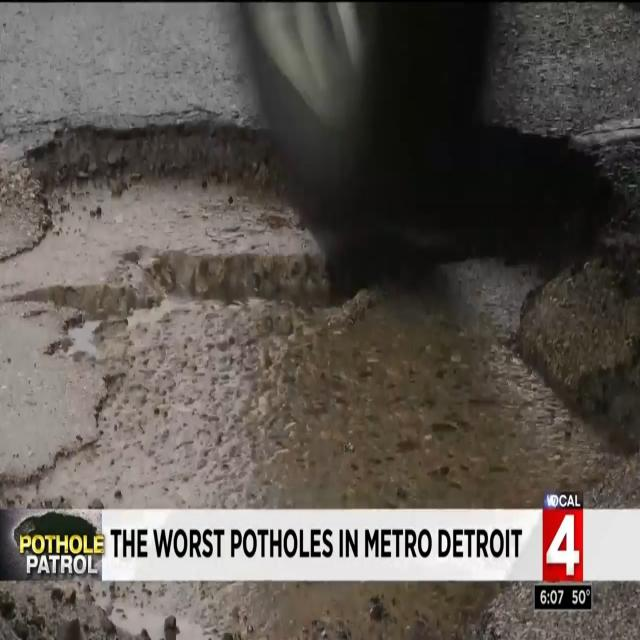pothole: (0, 131, 634, 500)
